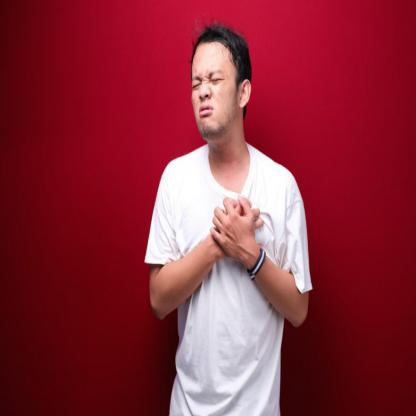pain: (190, 64, 228, 94)
